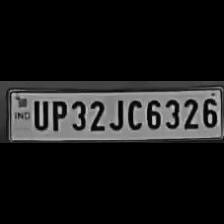2: (86, 97, 106, 132), (180, 95, 198, 129)
3: (67, 97, 85, 131), (162, 96, 180, 130)
6: (200, 96, 218, 128), (144, 96, 160, 130)
C: (124, 96, 142, 130)
J: (106, 96, 124, 132)
P: (49, 97, 67, 131)
U: (30, 97, 48, 131)
